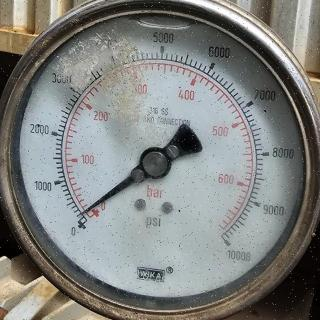gauge: (0, 0, 320, 320), (62, 202, 100, 241), (211, 226, 245, 262), (140, 146, 172, 178), (73, 208, 89, 222)
